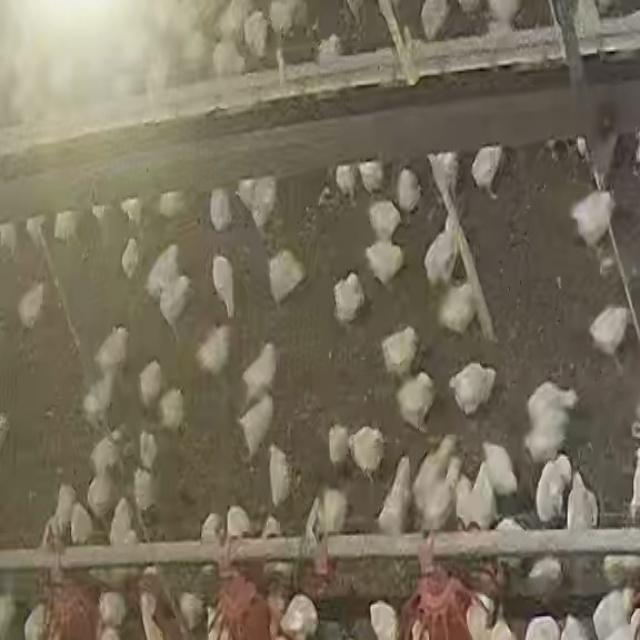chicken: (522, 381, 579, 464), (376, 455, 414, 536), (448, 361, 498, 419), (569, 188, 615, 251), (534, 456, 574, 526), (236, 392, 276, 461), (80, 372, 118, 441), (422, 222, 460, 288), (396, 372, 436, 434), (146, 242, 187, 301), (234, 178, 278, 232), (479, 440, 519, 499), (588, 304, 628, 362), (158, 274, 194, 338), (436, 282, 478, 336), (267, 248, 305, 307), (238, 340, 281, 392), (347, 424, 387, 478), (380, 324, 420, 376), (195, 322, 232, 377), (363, 240, 405, 288), (566, 467, 598, 530), (332, 271, 367, 326), (470, 145, 505, 199), (94, 324, 130, 376), (427, 151, 460, 206), (88, 431, 124, 480), (211, 255, 237, 319), (242, 8, 273, 61), (268, 445, 294, 508), (138, 358, 167, 414), (317, 486, 350, 534), (156, 384, 186, 435), (16, 281, 46, 332), (267, 0, 306, 37), (86, 472, 116, 520), (367, 198, 402, 239), (108, 499, 137, 547), (52, 482, 78, 534), (326, 422, 352, 471), (396, 166, 422, 214), (133, 463, 157, 515), (208, 189, 235, 233), (157, 190, 191, 222), (357, 160, 386, 196), (334, 164, 358, 203), (120, 237, 141, 281)
